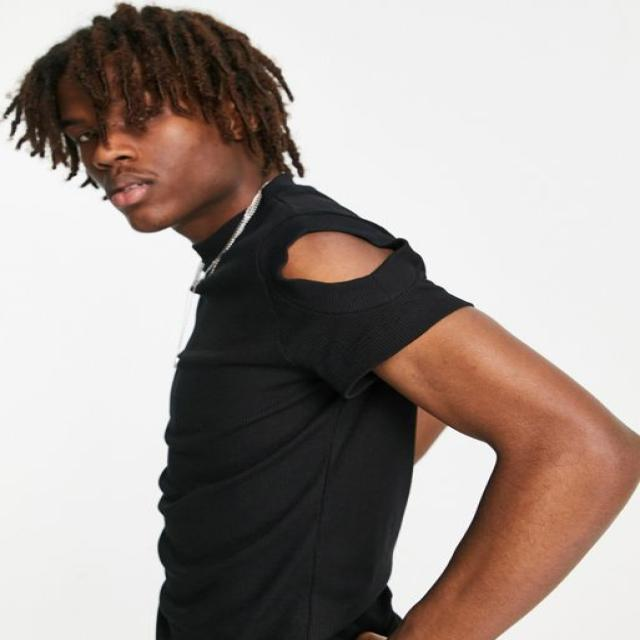tshirt: (146, 175, 472, 639)
